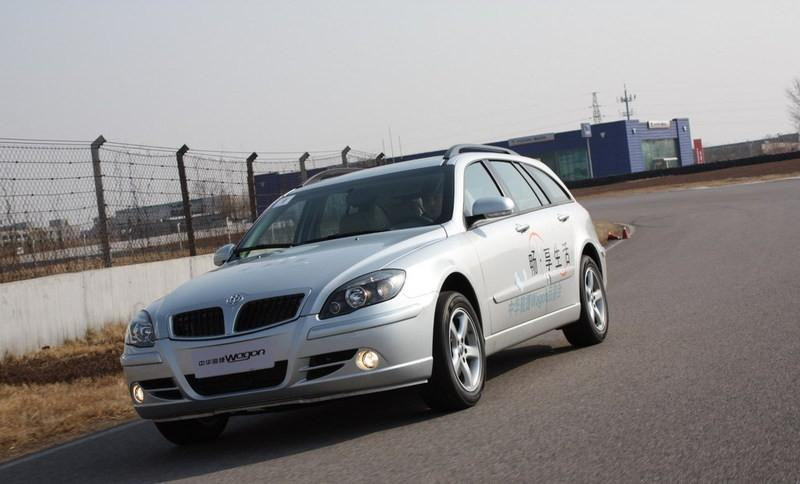Wagon: (120, 143, 610, 447)
